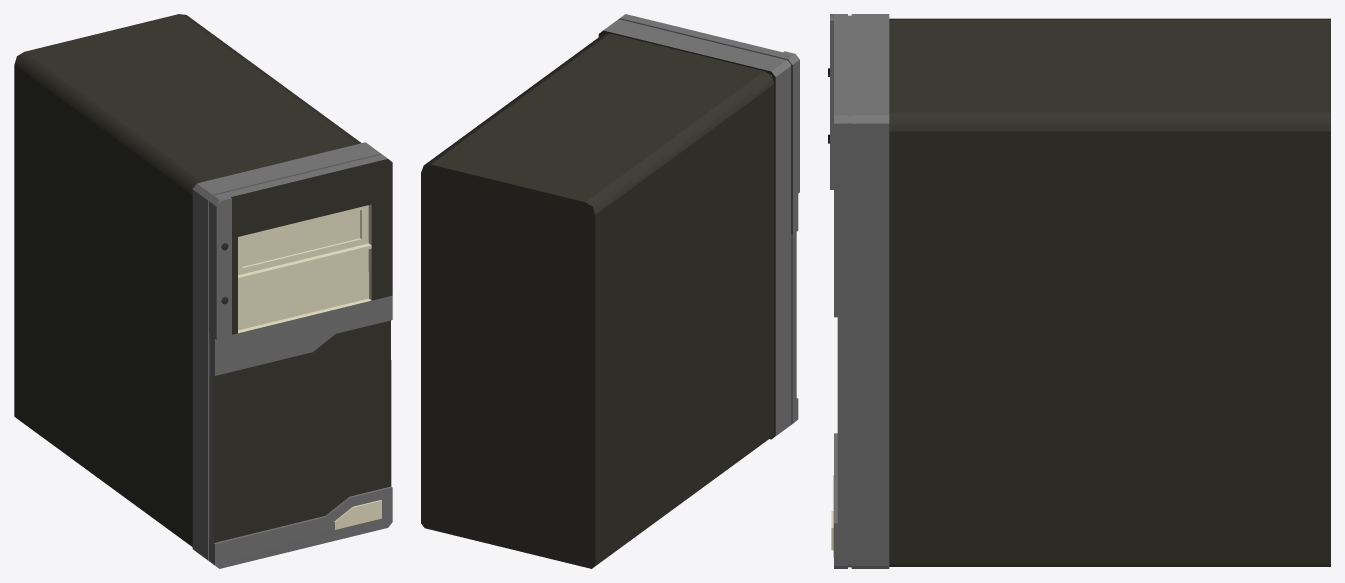
The model's file is workstation_tier9.fbx.
3 views of the same model, side by side, from view 1: azimuth 30°, elevation 25°; view 2: azimuth 150°, elevation 25°; view 3: azimuth 270°, elevation 25° (orthographic). The views are drawn at different scales.
Parts seen in each view (by area): view 1: Cube; view 2: Cube; view 3: Cube.
Part boxes in pixels (x1,y1,x2,y2): Cube: (14,14,392,568); Cube: (421,14,799,568); Cube: (830,14,1330,568).
Size of the model in its own units: 0.4328 by 0.8598 by 0.8634.
